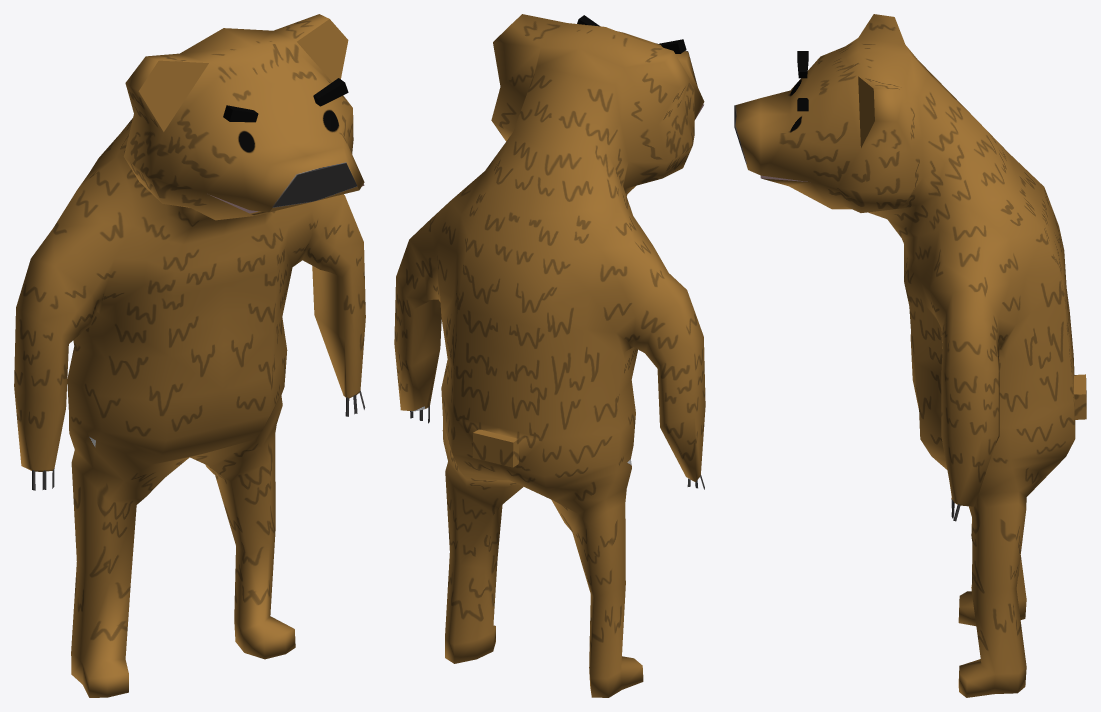
The model's file is bear.dae.
3 views of the same model, side by side, from view 1: azimuth 30°, elevation 25°; view 2: azimuth 150°, elevation 25°; view 3: azimuth 270°, elevation 25° (orthographic). The views are drawn at different scales.
Visible parts, largest first — view 1: bear_001; view 2: bear_001; view 3: bear_001.
Part boxes in pixels (x1,y1,x2,y2): bear_001: [14, 14, 365, 697]; bear_001: [394, 14, 705, 697]; bear_001: [734, 14, 1086, 697].
Size of the model in its own units: 2.07 by 2.07 by 3.9.
2 materials, 1 textured.
